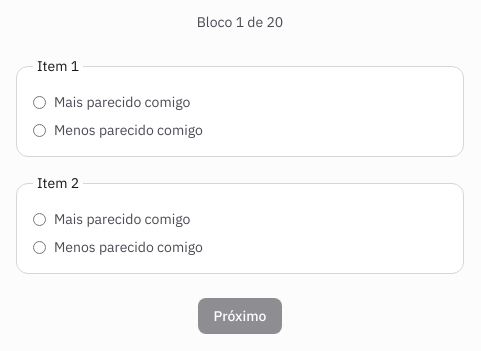
Test: AssessmentPage › envia a resposta e carrega o proximo bloco
Expected: the text "Item 1" is shown, [37,57,79,75]
Click the radio button with aria-label "Item 1 — Mais parecido comigo". click: (40, 102)
box: [33,96,46,108]
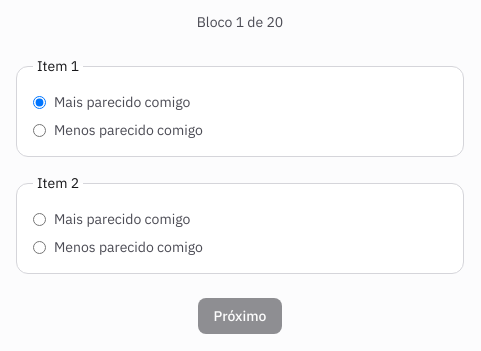
Click the radio button with aria-label "Item 2 — Menos parecido comigo". click: (40, 247)
box: [33,240,46,254]
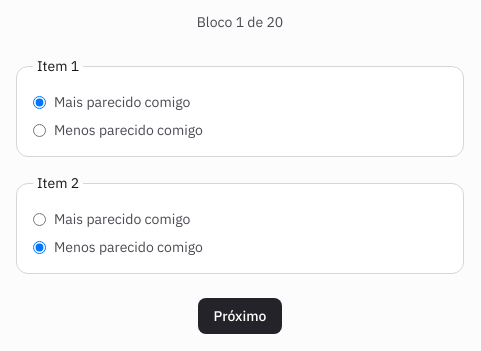
Click the button "Próximo". click: (240, 316)
box: [198,298,282,334]
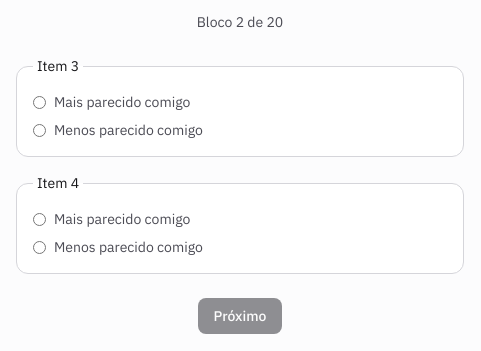
Expected: the text "Item 3" is shown, [37,57,79,75]
